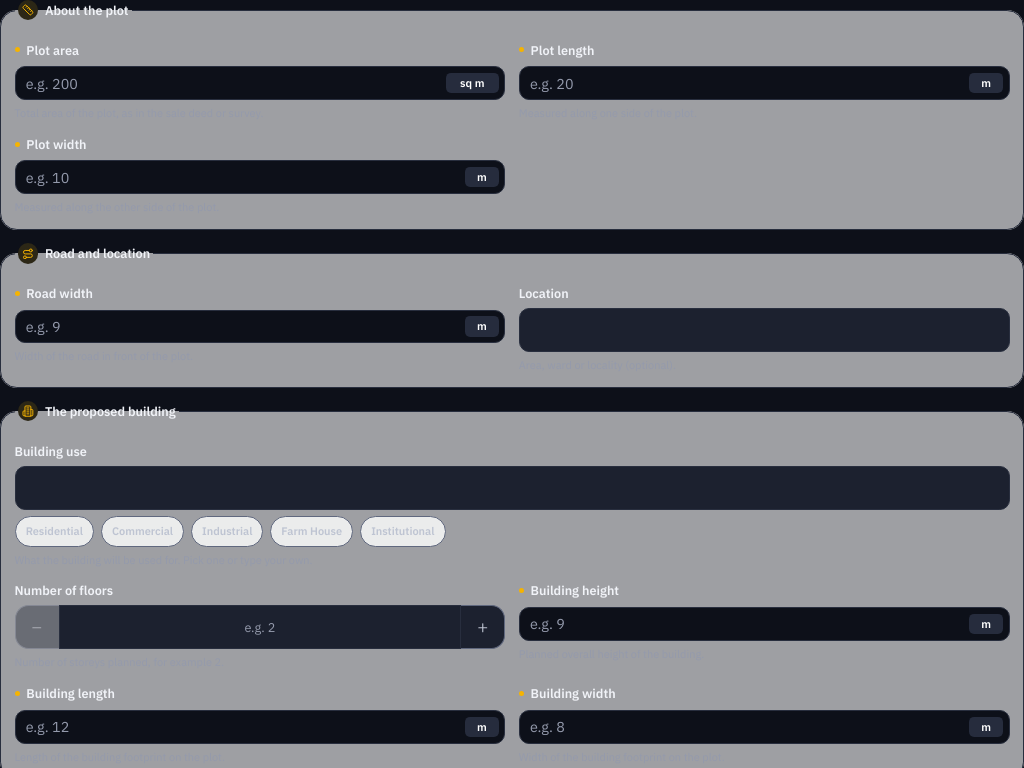
Test: Plot inputs form › floors stepper never goes below zero
This screenshot has width=1024, height=768.
Expected: the button named "One floor fewer" is disabled, 14,605 -> 58,649
Click the button named "One floor more".
click(483, 627)  # box 461,605 -> 505,649
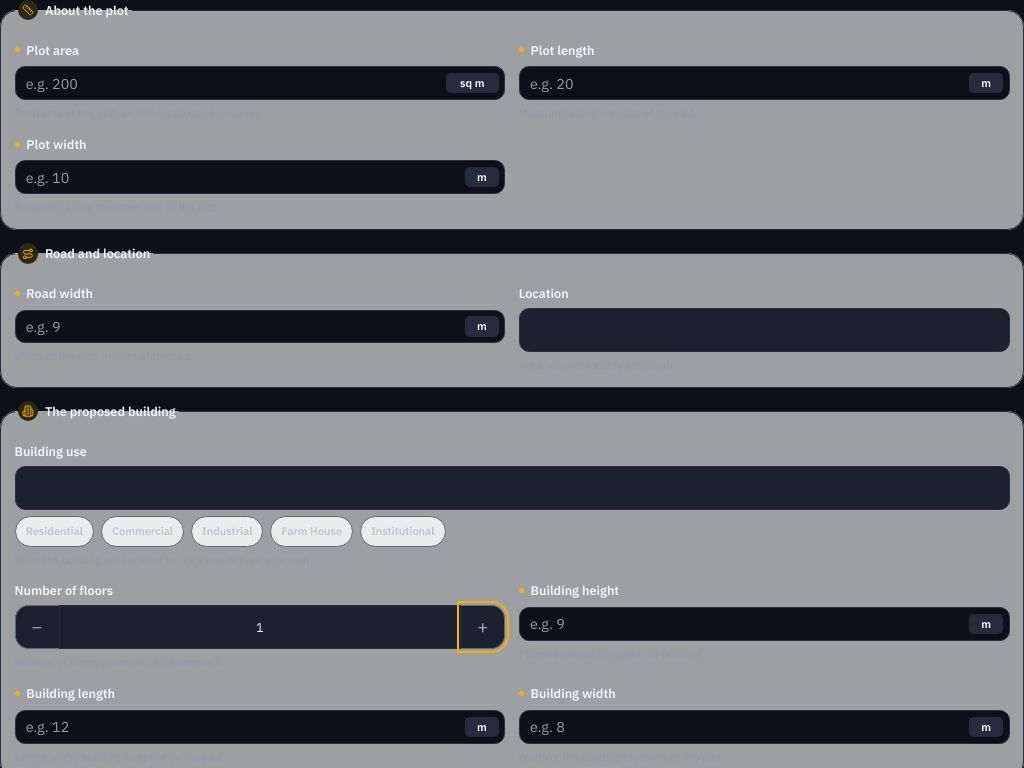
Click the button named "One floor more".
click(483, 627)  # box 461,605 -> 505,649
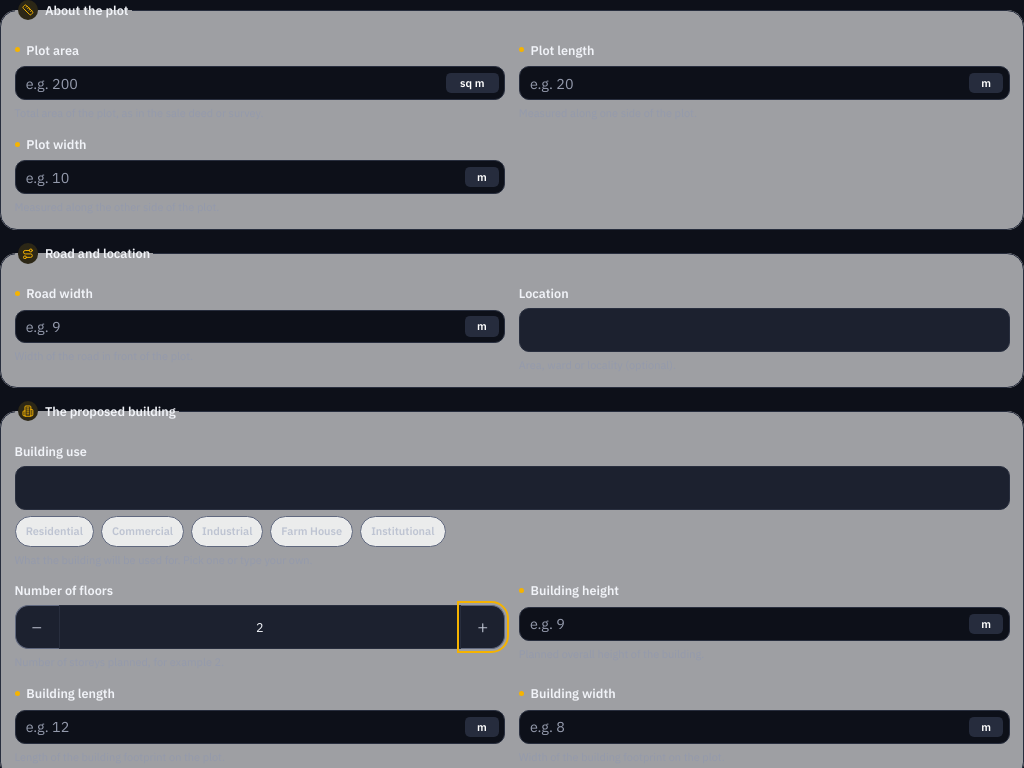
Click the button named "One floor fewer".
click(36, 627)  # box 14,605 -> 58,649
(page scrolled)
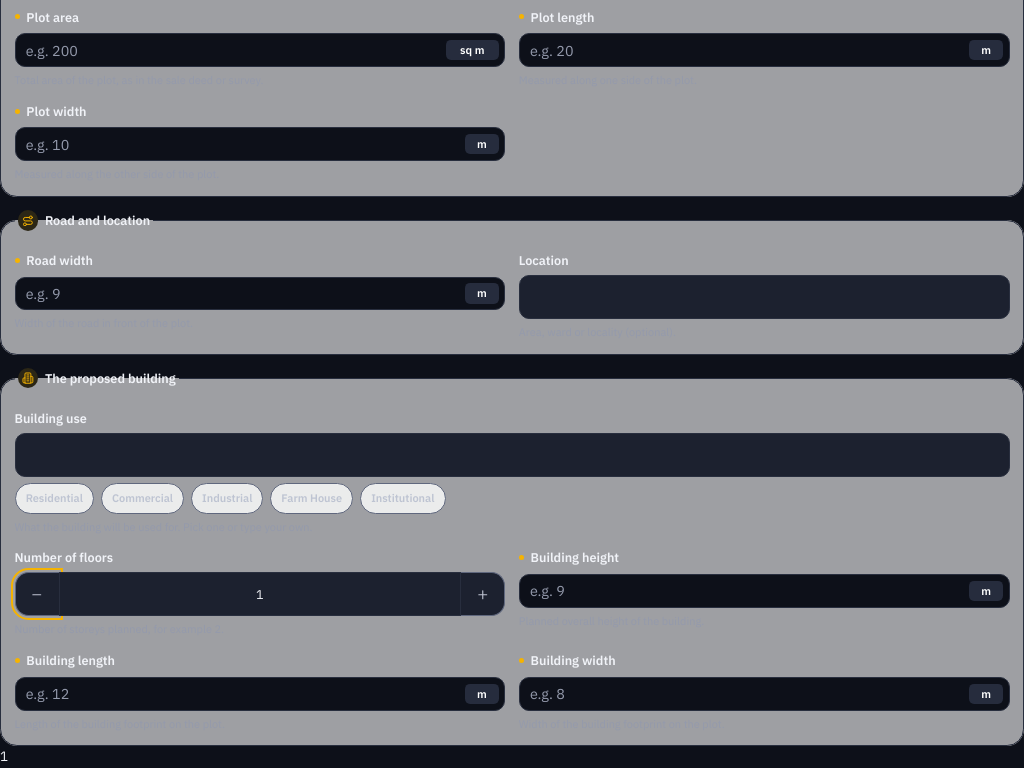
Expected: the text with test id "floors" reads "1", 0,747 -> 8,765
